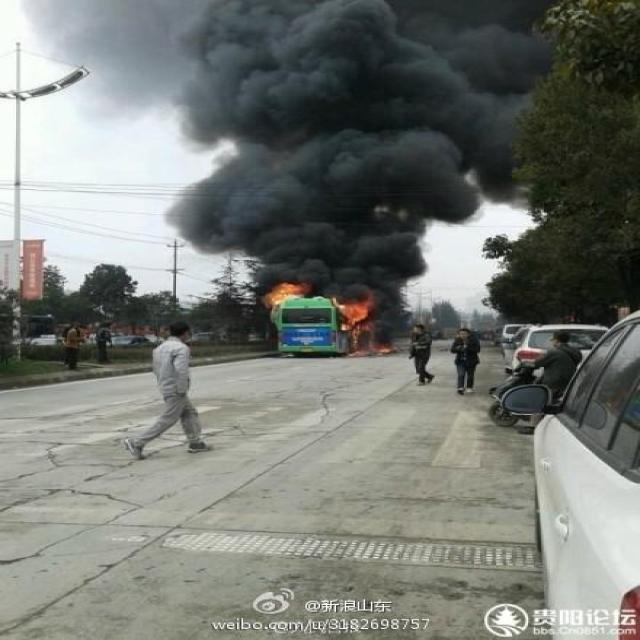Fire: (332, 294, 374, 346), (266, 280, 303, 306)
Smoke: (56, 2, 511, 282)
